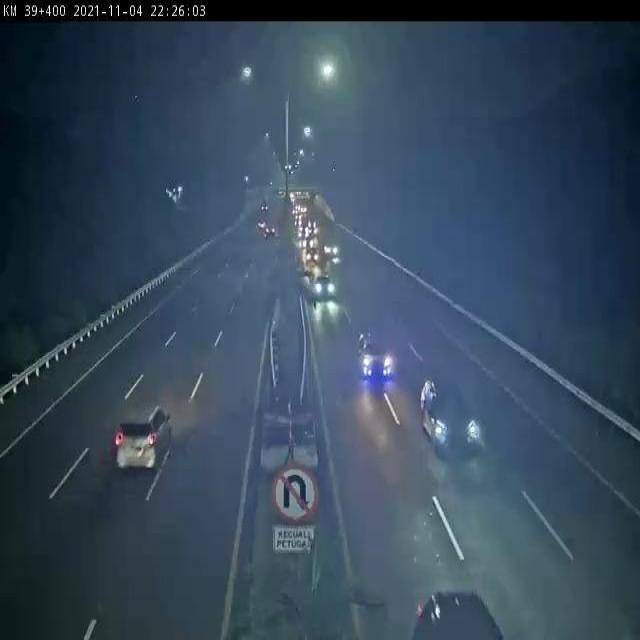car: (419, 372, 489, 463), (418, 580, 504, 640), (113, 402, 178, 474), (355, 314, 398, 394), (312, 269, 341, 300), (322, 240, 342, 260), (302, 246, 319, 266)
